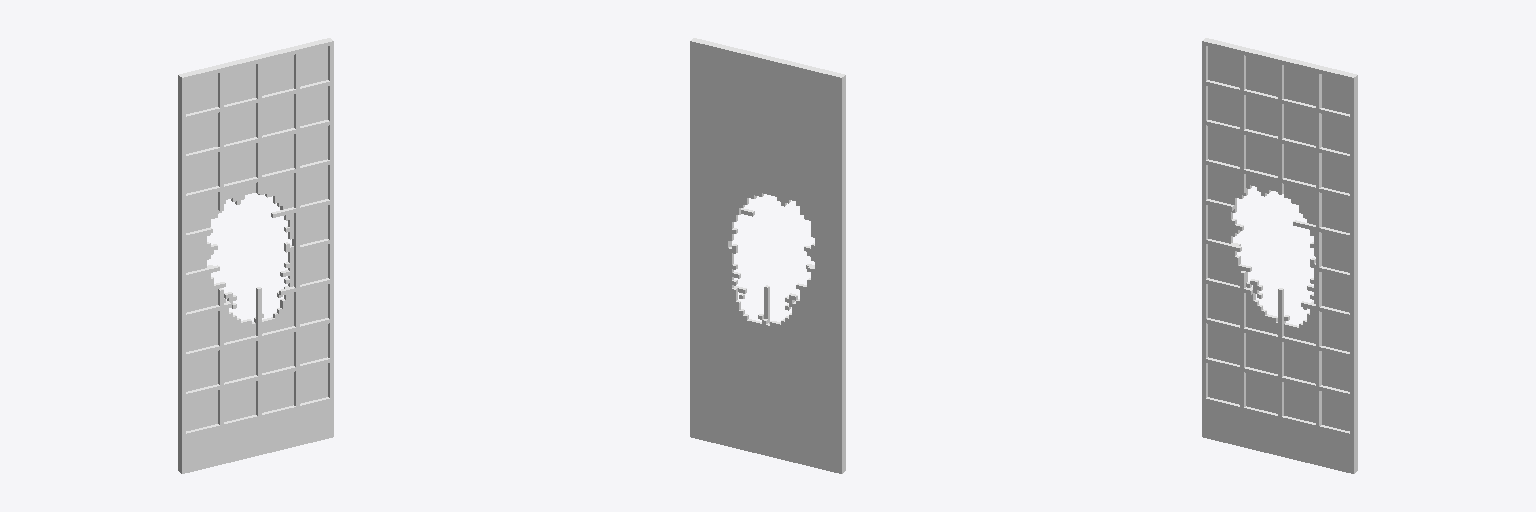
Rendered from Environment-1.obj.
The picture shows the model from 3 angles: view 1: azimuth 30°, elevation 25°; view 2: azimuth 150°, elevation 25°; view 3: azimuth 330°, elevation 25°; orthographic projection.
Parts seen in each view (by area): view 1: object 1; view 2: object 1; view 3: object 1.
Boxes of the visible parts, x1,y1,x2,y2 form: object 1: [178, 38, 333, 473]; object 1: [690, 38, 845, 473]; object 1: [1202, 38, 1357, 473].
Bounding box in the file's own units: 4 × 10 × 0.2.